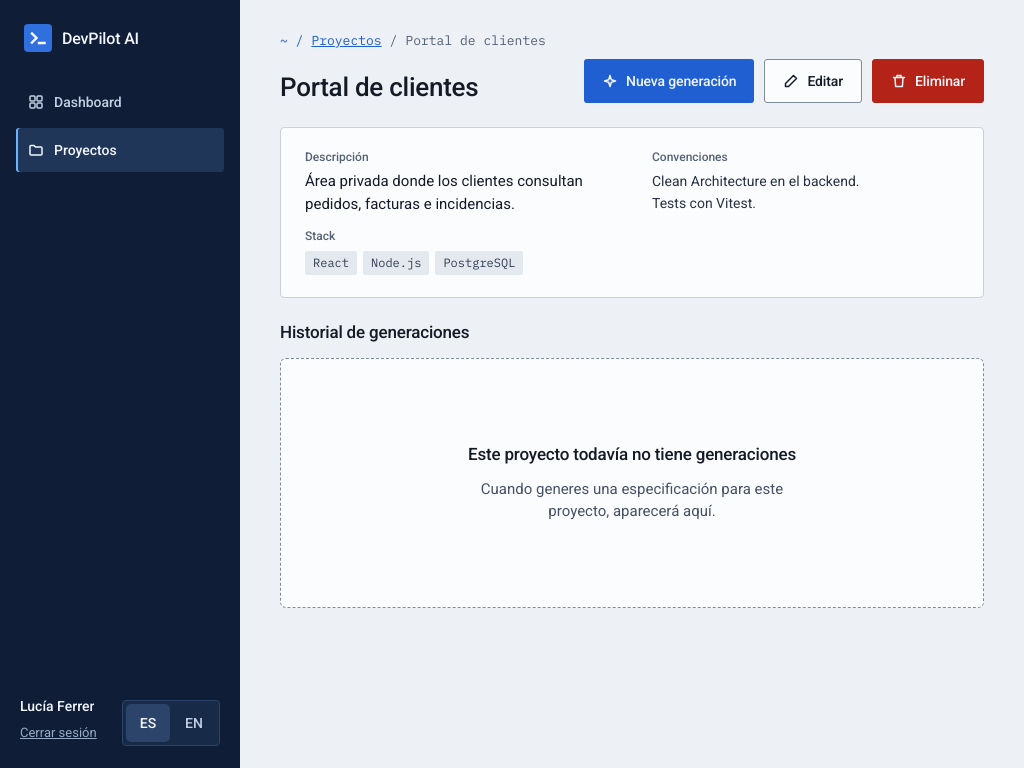
Test case: deleting a project › deletes nothing when the user cancels
This screenshot has width=1024, height=768.
Click the button "Eliminar" at coordinates (928, 81), box [872, 59, 984, 103]
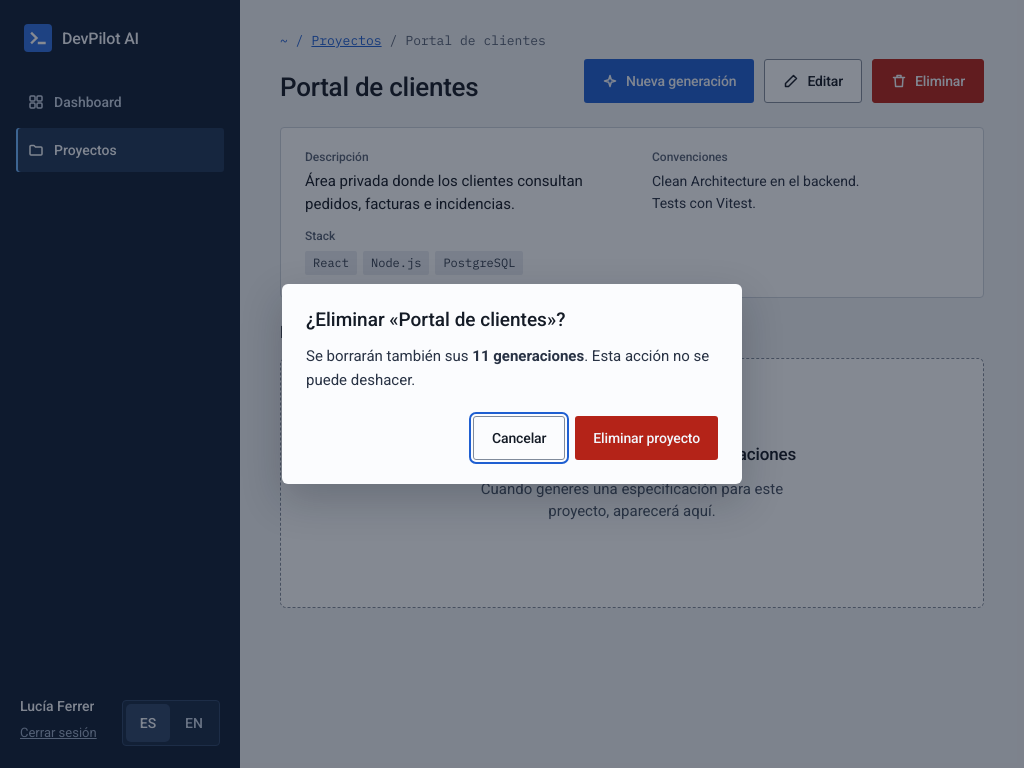
Click the button "Cancelar" at coordinates (519, 438), box [473, 416, 565, 460]
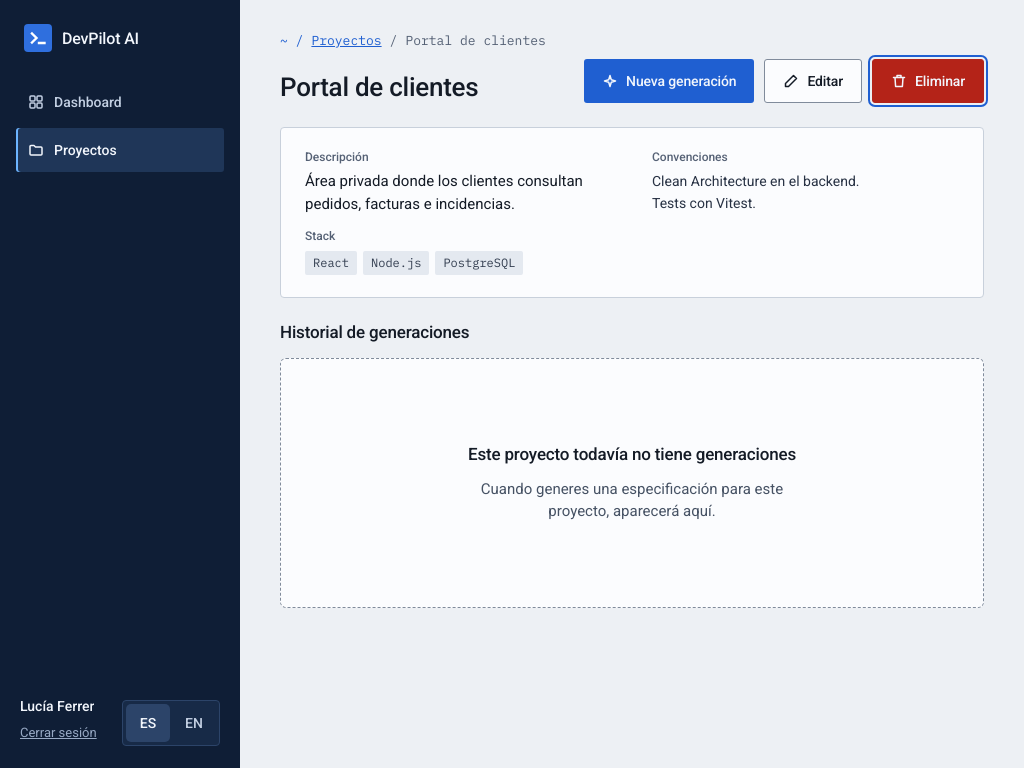
Expected: the heading "Portal de clientes" is shown, [280, 70, 478, 103]
Now the dialog is gone
